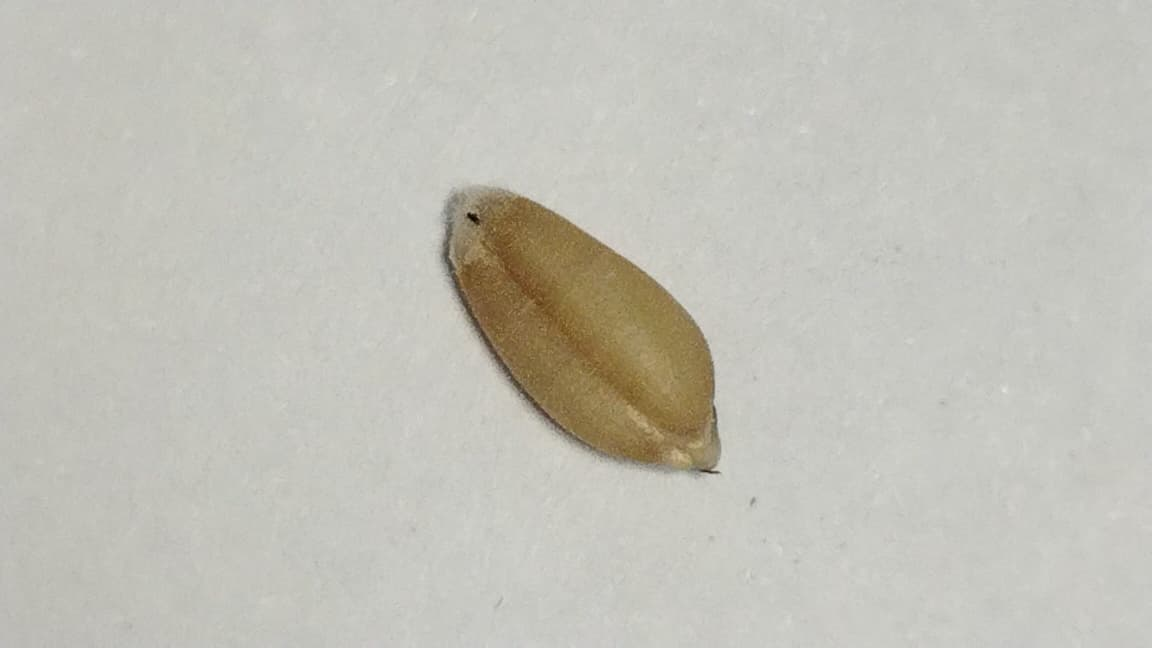healthy: (458, 297, 721, 473), (441, 184, 510, 295)
